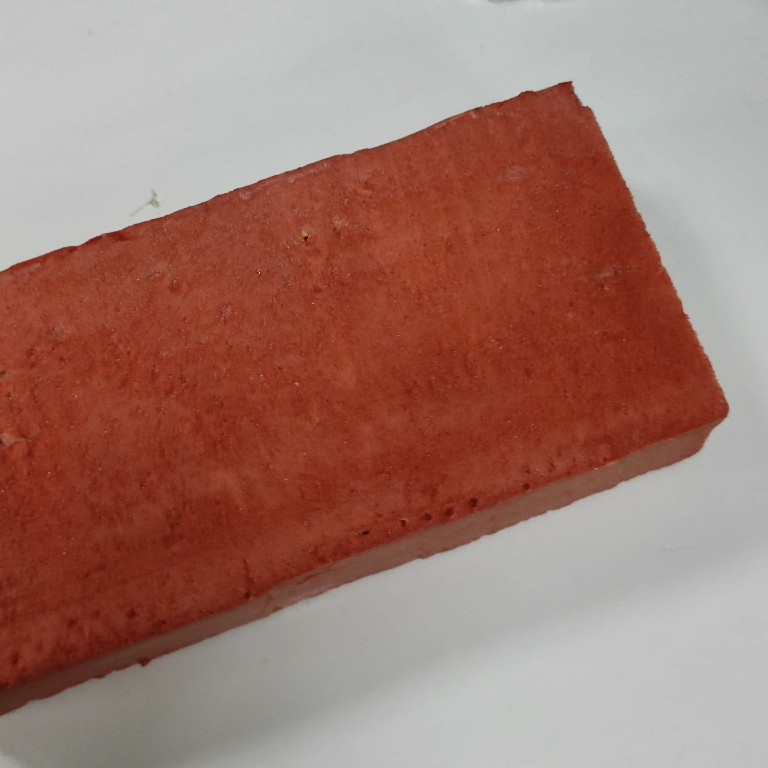brick: (1, 68, 738, 729)
